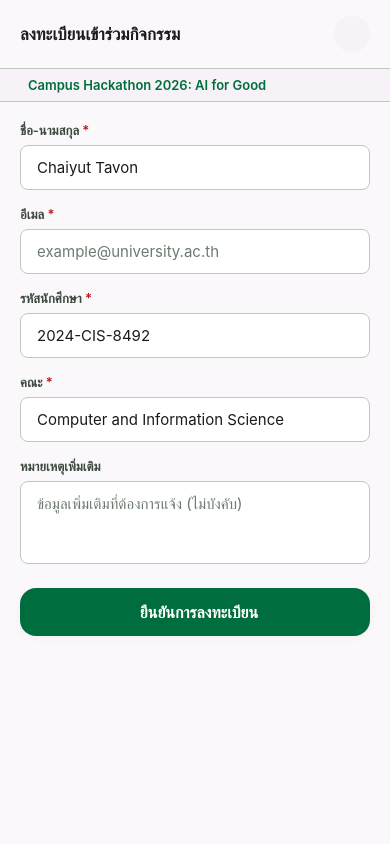
Integration Test: EventRegistrationModal › displays API error banner when registration fails and preserves form values
Type "student@university.ac.th" into the field with test id "input-email" at (195, 252), box [20, 229, 370, 274]
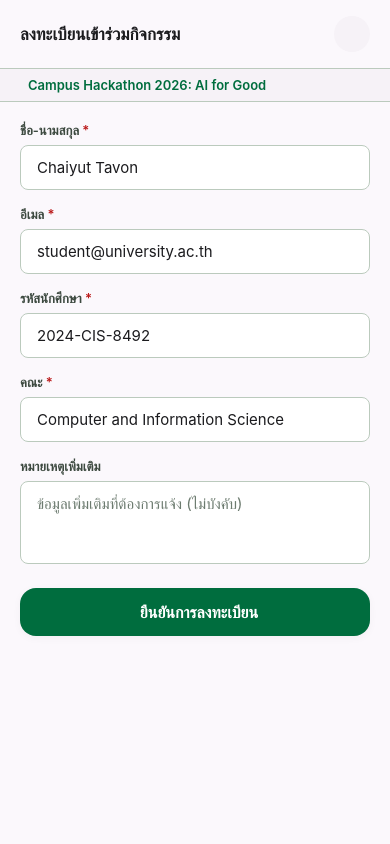
Click the button with test id "submit-btn" at (195, 612), box [20, 588, 370, 636]
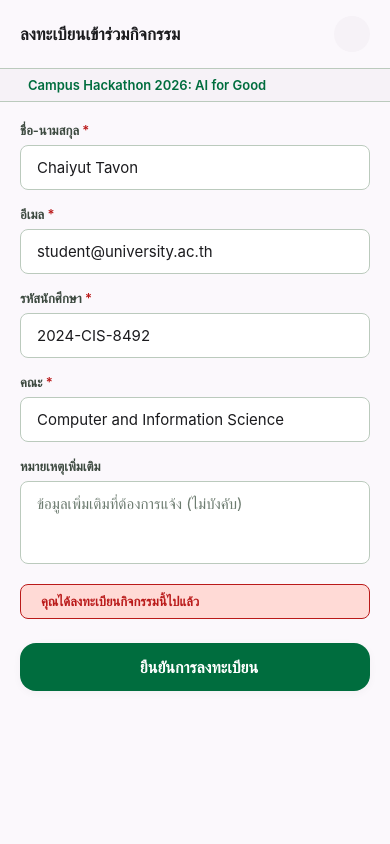
expect the text "ยืนยันการลงทะเบียน" is shown: met, box [140, 657, 258, 677]
expect the message "คุณได้ลงทะเบียนกิจกรรมนี้ไปแล้ว" is shown: met, box [20, 584, 370, 619]
expect the text "คุณได้ลงทะเบียนกิจกรรมนี้ไปแล้ว" is shown: met, box [41, 593, 199, 609]
